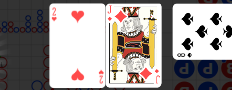2H: (98, 69, 105, 85)
6C: (176, 52, 194, 59)
